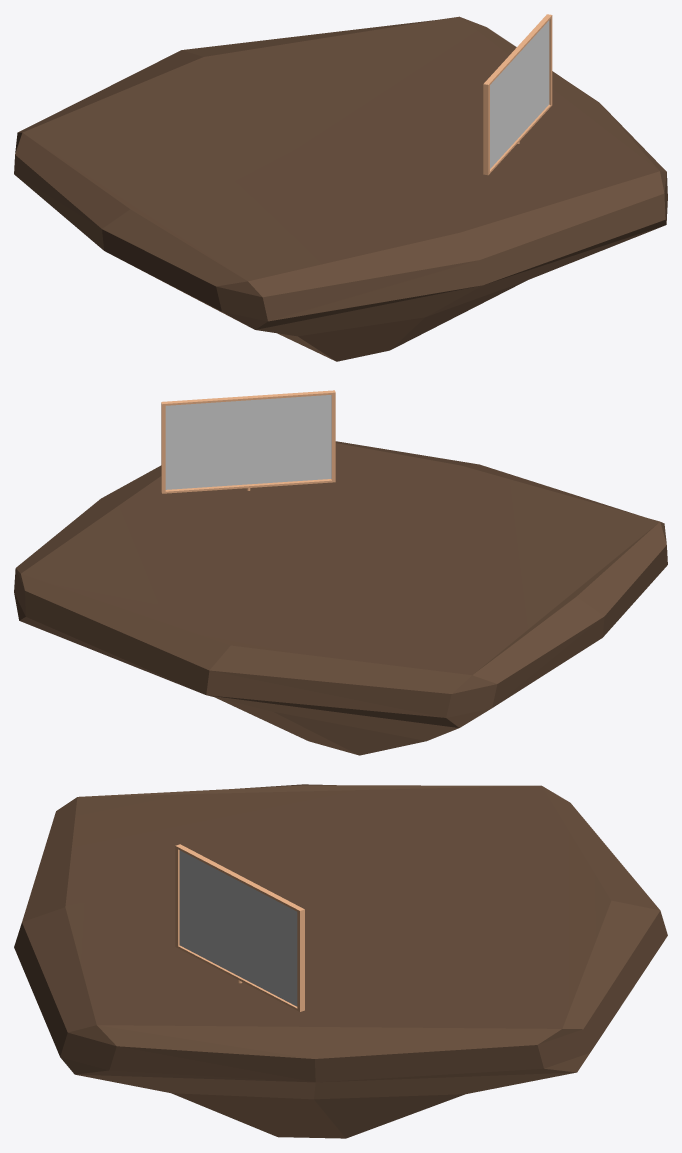
The model's file is tutorial sima 1.fbx.
3 views of the same model, one above another, from view 1: azimuth 30°, elevation 25°; view 2: azimuth 150°, elevation 25°; view 3: azimuth 270°, elevation 25° (orthographic). The views are drawn at different scales.
Visible parts, largest first — view 1: Tikei, 큐브, 실린더; view 2: Tikei, 큐브, 실린더; view 3: Tikei, 큐브, 실린더.
Boxes of the visible parts, x1,y1,x2,y2 form: Tikei: [14, 16, 667, 361]; 큐브: [490, 20, 549, 168]; 실린더: [483, 14, 552, 175]; Tikei: [14, 441, 667, 755]; 큐브: [165, 395, 331, 489]; 실린더: [161, 390, 335, 493]; Tikei: [14, 784, 667, 1138]; 큐브: [179, 850, 297, 1006]; 실린더: [175, 844, 304, 1011].
Bounding box in the file's own units: 5802 × 3155 × 5841.
